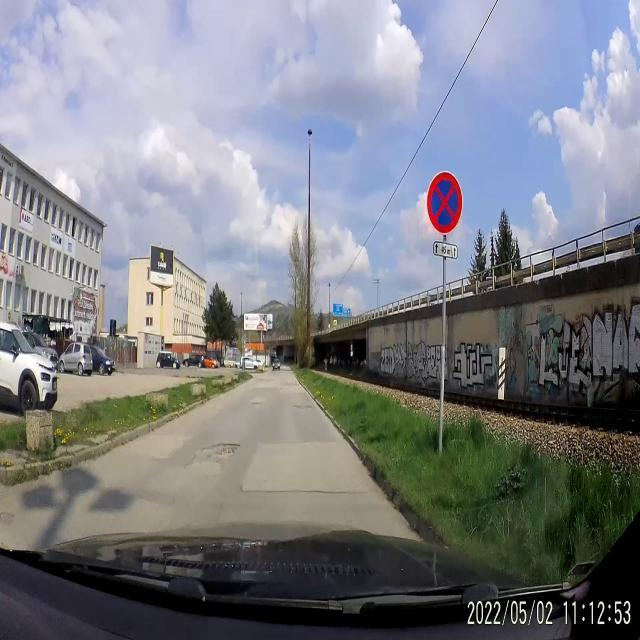Pothole: (192, 433, 242, 481), (289, 396, 313, 419), (247, 396, 271, 418)
